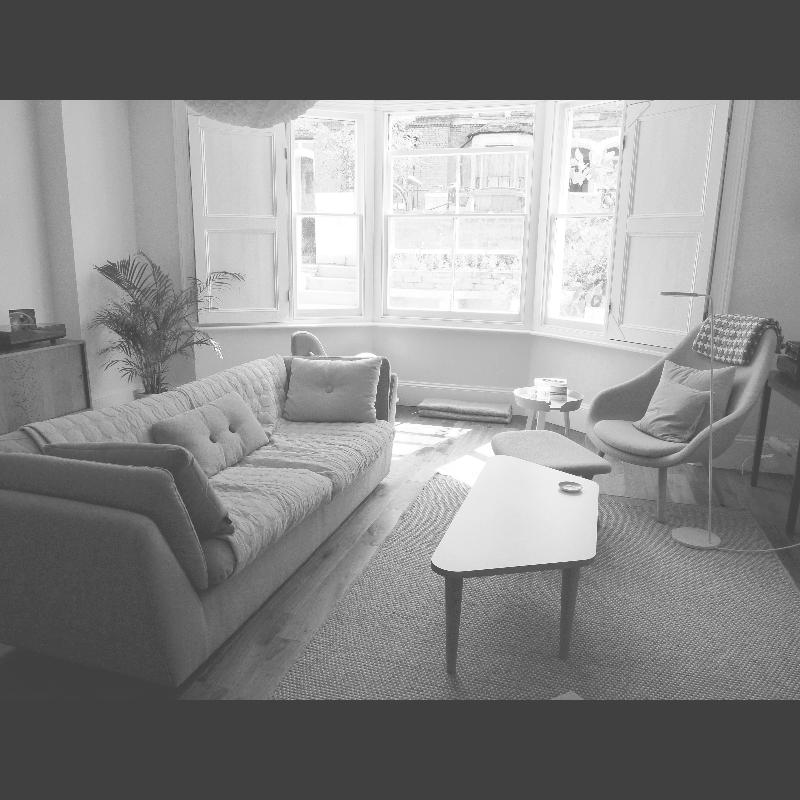pillow: (55, 447, 235, 537), (269, 346, 391, 438), (144, 392, 266, 476), (663, 360, 739, 438), (628, 376, 708, 446)
